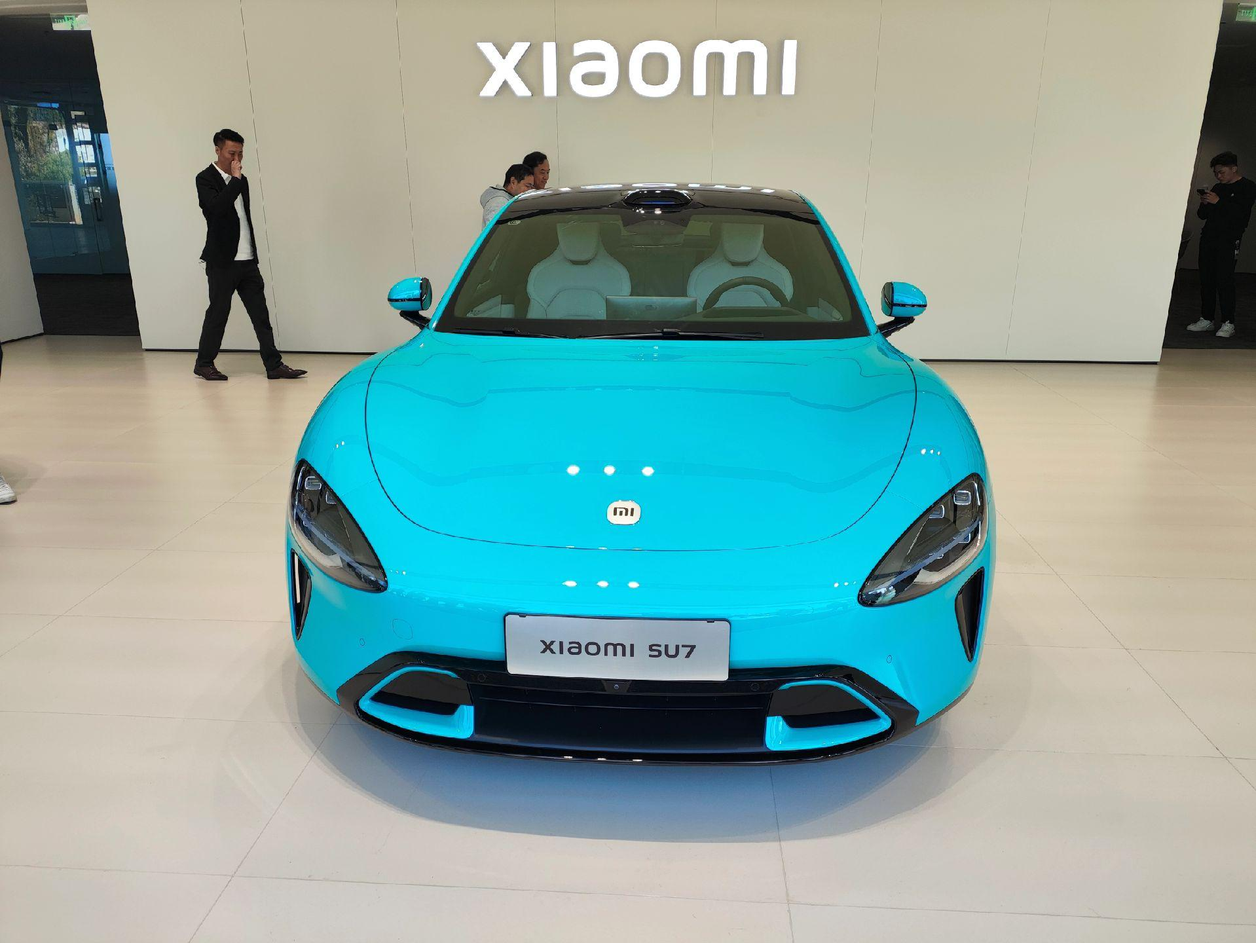su7: (293, 166, 1000, 775)
